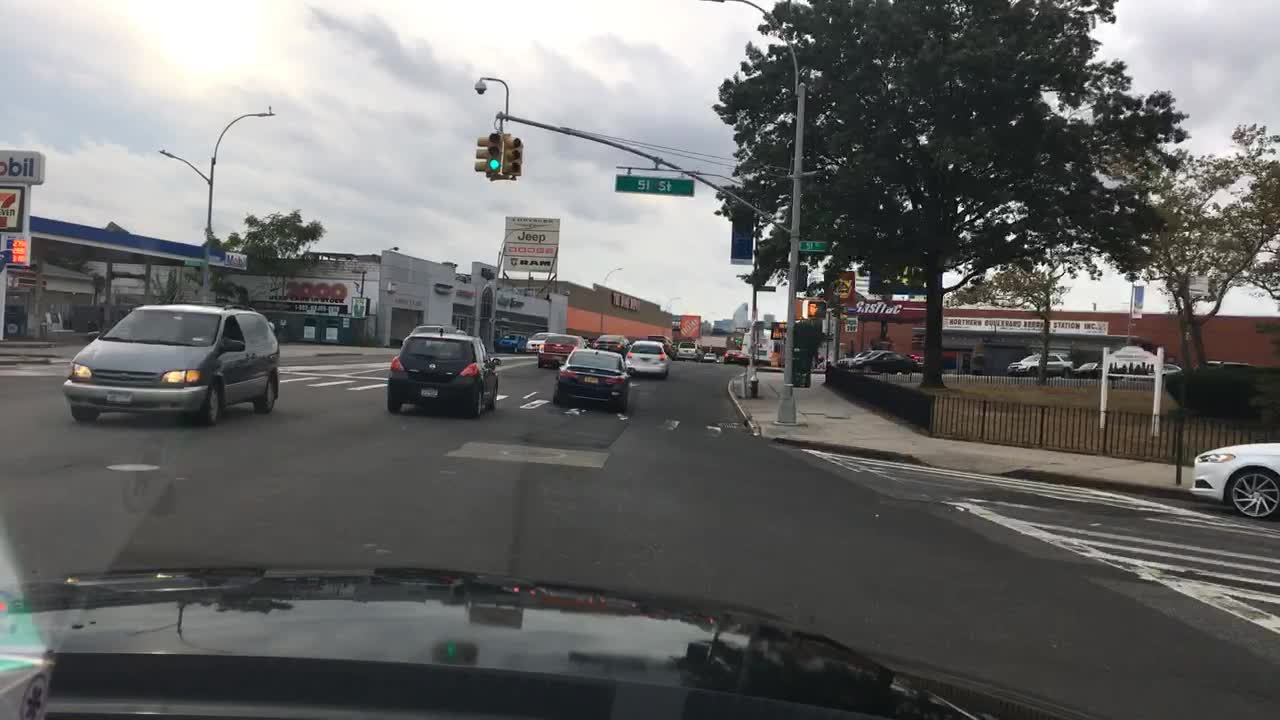car: (62, 306, 281, 425), (386, 338, 501, 417), (1189, 437, 1277, 515), (550, 347, 631, 410), (534, 333, 583, 375), (845, 348, 921, 375), (620, 336, 668, 376), (1009, 350, 1075, 373), (408, 324, 458, 339), (526, 329, 553, 354), (593, 334, 631, 351), (496, 332, 526, 352), (642, 334, 674, 351), (676, 338, 698, 361), (725, 348, 749, 365), (577, 333, 597, 351), (1078, 360, 1102, 375), (852, 348, 874, 358), (701, 350, 717, 363), (455, 324, 472, 334), (714, 353, 725, 366)
traffic light: (484, 129, 506, 182), (506, 134, 524, 180), (472, 136, 487, 177), (804, 300, 826, 319)
traffic sign: (614, 176, 695, 193), (798, 242, 833, 254), (755, 286, 776, 296), (847, 316, 857, 333), (749, 340, 762, 353), (627, 309, 634, 330), (183, 259, 201, 266)
